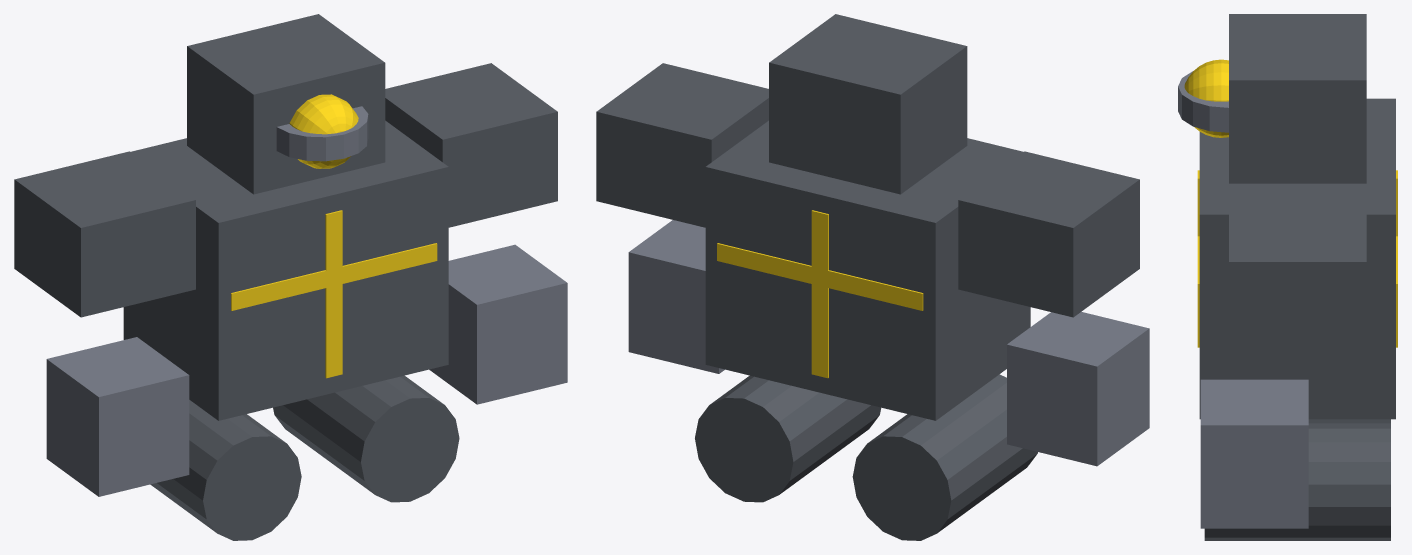
Rendered from titan_golem.obj.
3 renders of one model, left to right at view 1: azimuth 30°, elevation 25°; view 2: azimuth 150°, elevation 25°; view 3: azimuth 270°, elevation 25°, orthographic. The views are drawn at different scales.
Visible parts, largest first — view 1: Chest_Monolith, Pauldron_L, Head_Block, Fist_L, Pauldron_R, Fist_R, Leg_R, Leg_L, Rune_Line_H, Eye_Lens_Mount, Rune_Line_V, Eye_Laser_Core; view 2: Chest_Monolith, Head_Block, Pauldron_L, Pauldron_R, Fist_L, Leg_L, Leg_R, Fist_R, Rune_Line_H, Rune_Line_V; view 3: Chest_Monolith, Head_Block, Pauldron_R, Fist_R, Leg_R, Eye_Laser_Core, Eye_Lens_Mount, Rune_Line_V, Leg_L, Rune_Line_H.
Part boxes in pixels (box(x1,y1,x2,y2)): Chest_Monolith: box(123, 120, 448, 420); Pauldron_L: box(14, 151, 195, 317); Head_Block: box(187, 14, 385, 194); Fist_L: box(46, 337, 189, 496); Pauldron_R: box(385, 63, 557, 227); Fist_R: box(429, 244, 567, 404); Leg_R: box(273, 375, 459, 502); Leg_L: box(150, 400, 301, 540); Rune_Line_H: box(231, 243, 437, 310); Eye_Lens_Mount: box(276, 106, 368, 161); Rune_Line_V: box(325, 210, 342, 378); Eye_Laser_Core: box(289, 94, 358, 168); Chest_Monolith: box(705, 120, 1030, 420); Head_Block: box(769, 14, 967, 194); Pauldron_L: box(958, 151, 1139, 317); Pauldron_R: box(596, 63, 768, 227); Fist_L: box(1007, 312, 1149, 466); Leg_L: box(852, 374, 1037, 540); Leg_R: box(695, 375, 881, 502); Fist_R: box(628, 220, 724, 373); Rune_Line_H: box(717, 243, 923, 310); Rune_Line_V: box(811, 210, 828, 378); Chest_Monolith: box(1199, 98, 1395, 419); Head_Block: box(1229, 14, 1366, 183); Pauldron_R: box(1229, 203, 1366, 354); Fist_R: box(1200, 379, 1308, 528); Leg_R: box(1204, 423, 1390, 540); Eye_Laser_Core: box(1184, 59, 1228, 137); Eye_Lens_Mount: box(1178, 71, 1228, 132); Rune_Line_V: box(1197, 170, 1397, 347); Leg_L: box(1308, 419, 1390, 423); Rune_Line_H: box(1197, 236, 1397, 301).
Size of the model in its own units: 2.9 by 2.52 by 1.12.
